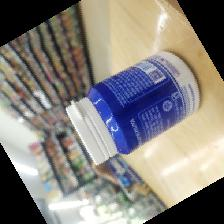Xylitol_blue: (65, 50, 199, 168)
